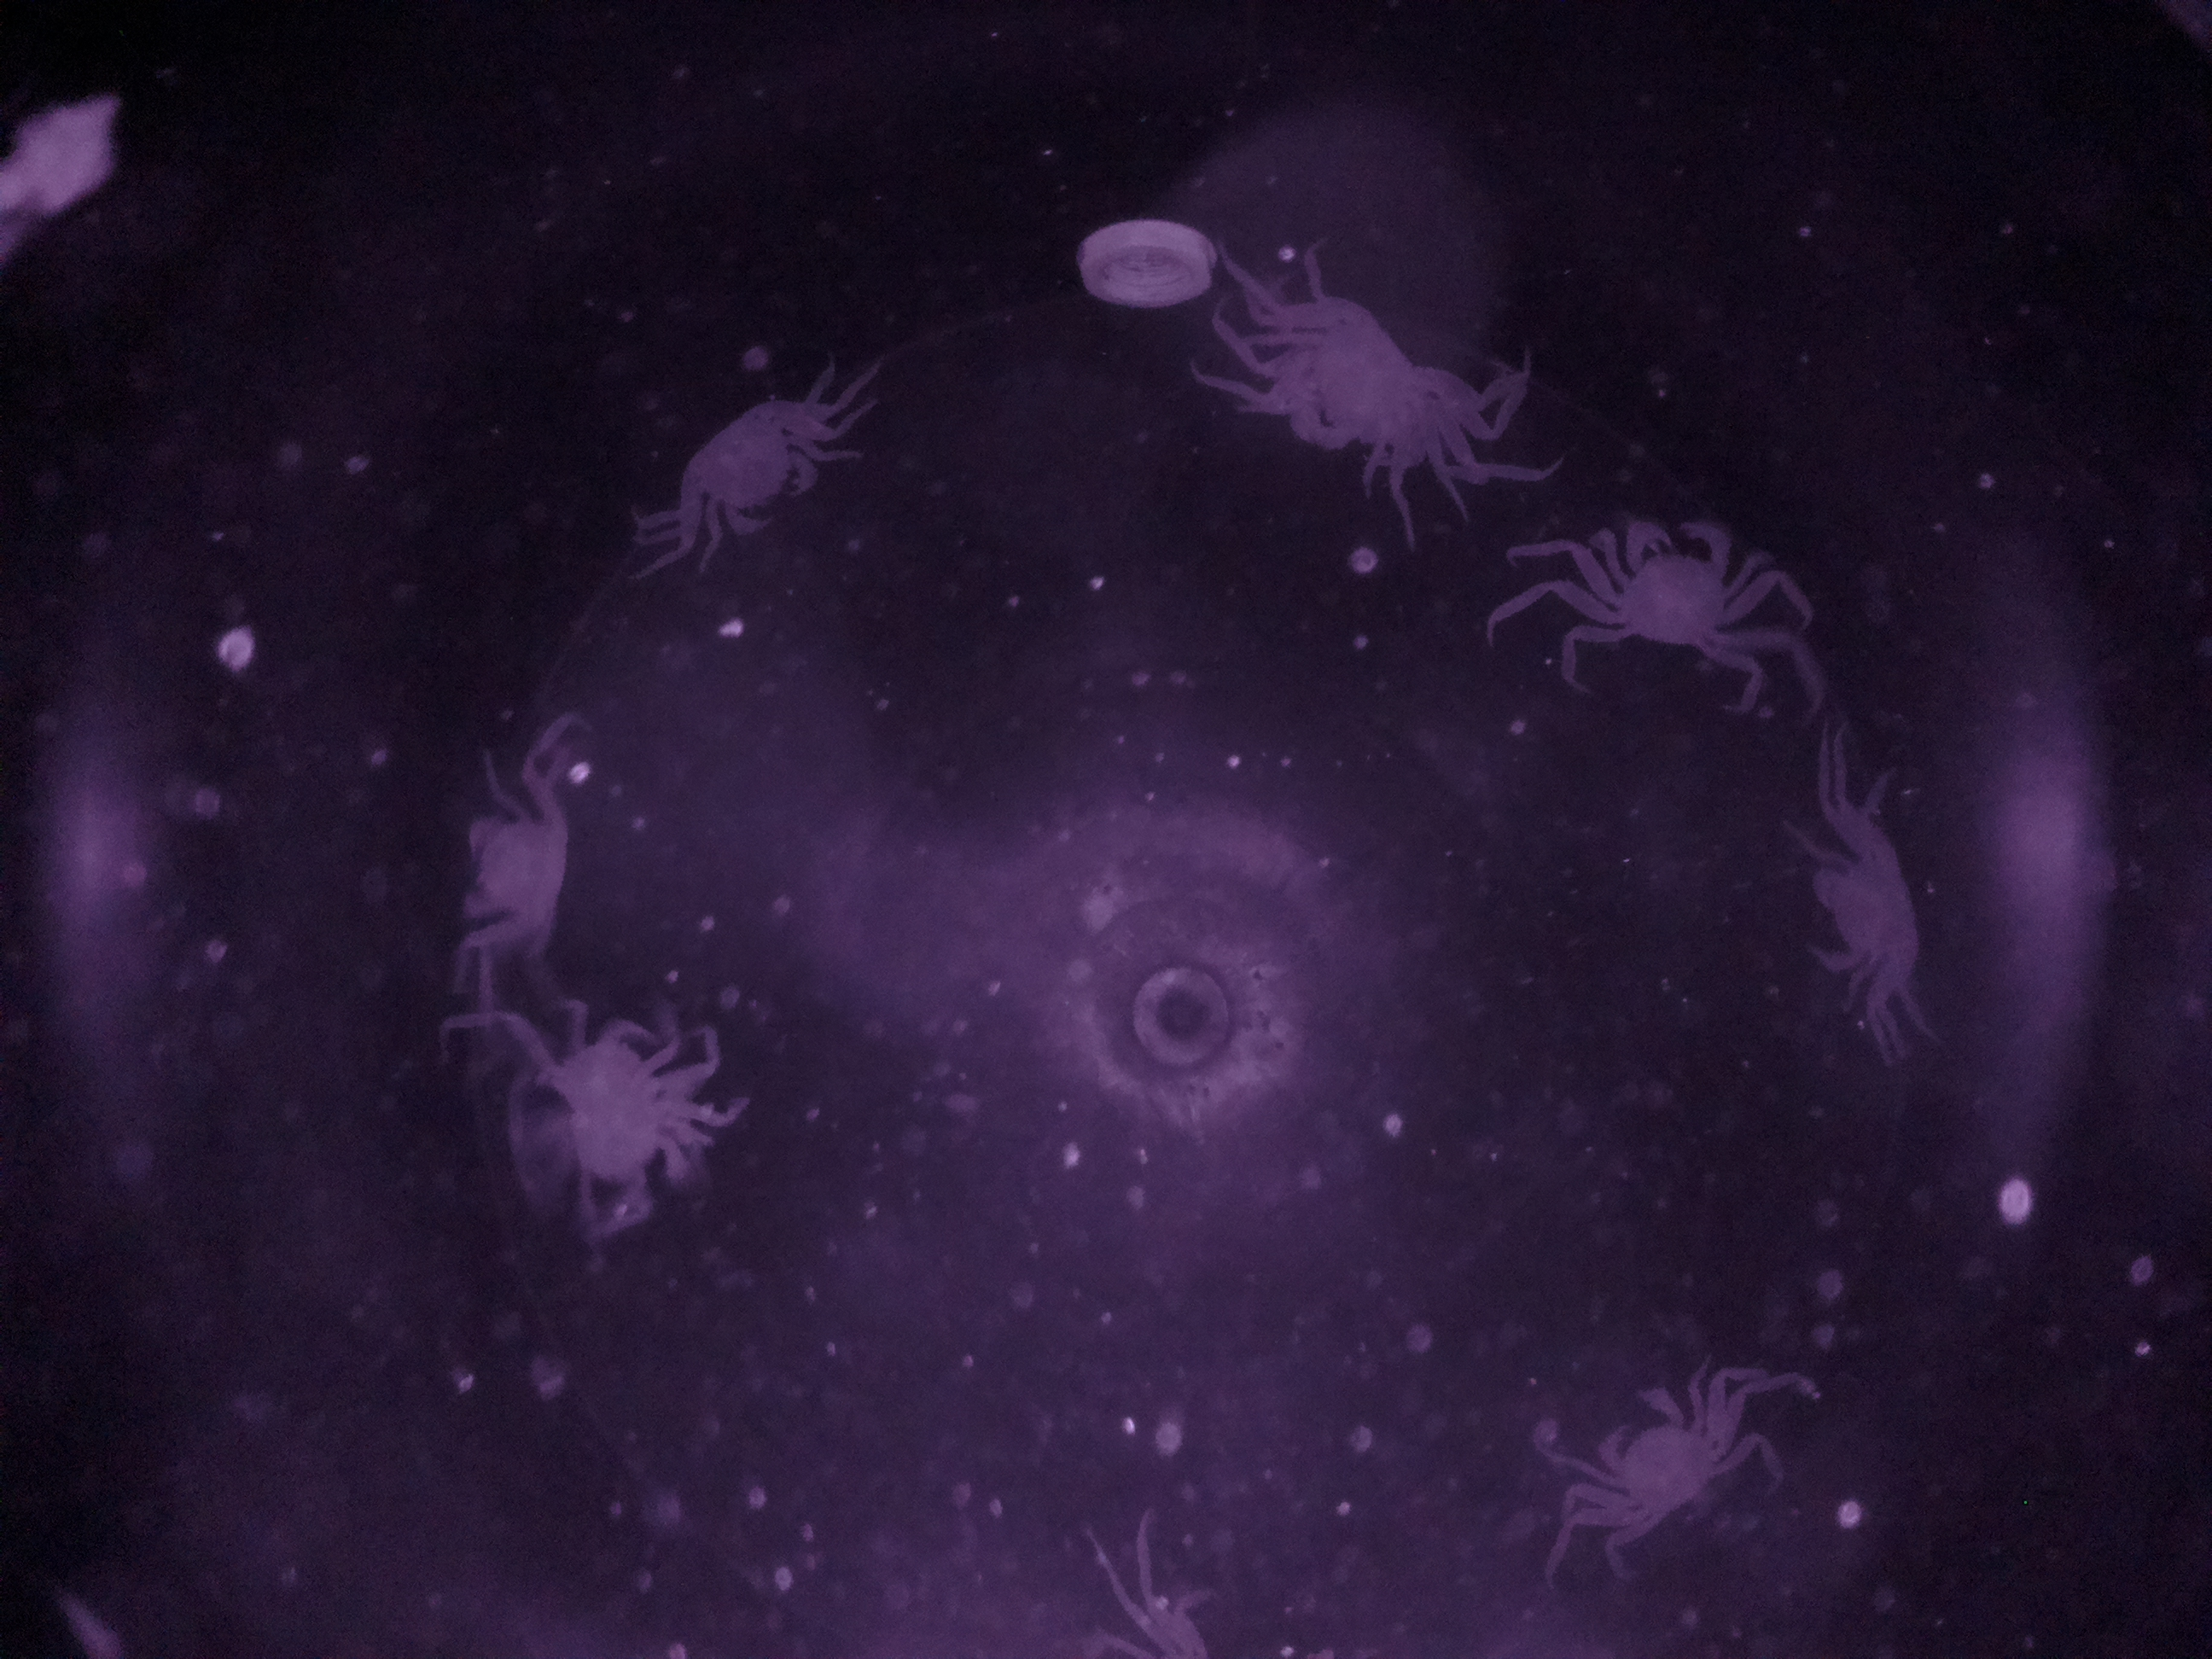Crab: (1564, 500, 1773, 664), (1562, 1361, 1733, 1544), (672, 375, 831, 559), (449, 772, 592, 962)
